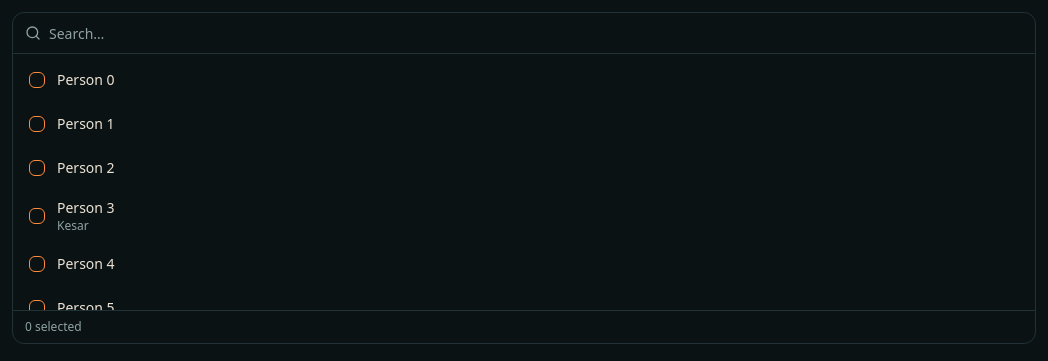
it: CheckList › toggles items, keeps option order and announces the count
Click the checkbox named "Person 5" next to "Person 5".
click(37, 308)  # box [29,300,45,316]
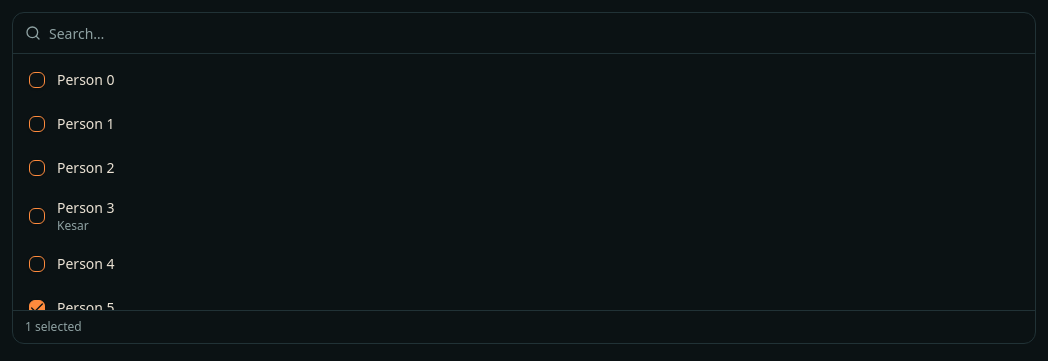
Click the checkbox named "Person 1" next to "Person 1".
click(37, 124)  # box [29,116,45,132]
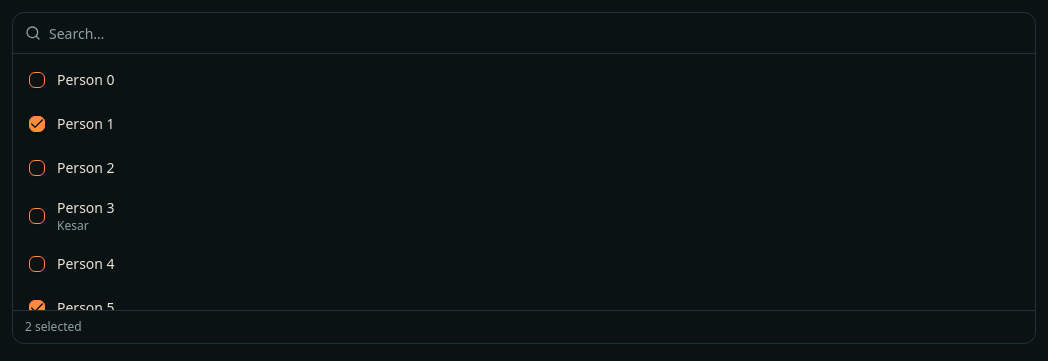
Now the text "2 selected" is shown, box [13,310,1035,343]
Click the checkbox named "Person 5" next to "Person 5".
click(37, 308)  # box [29,300,45,316]
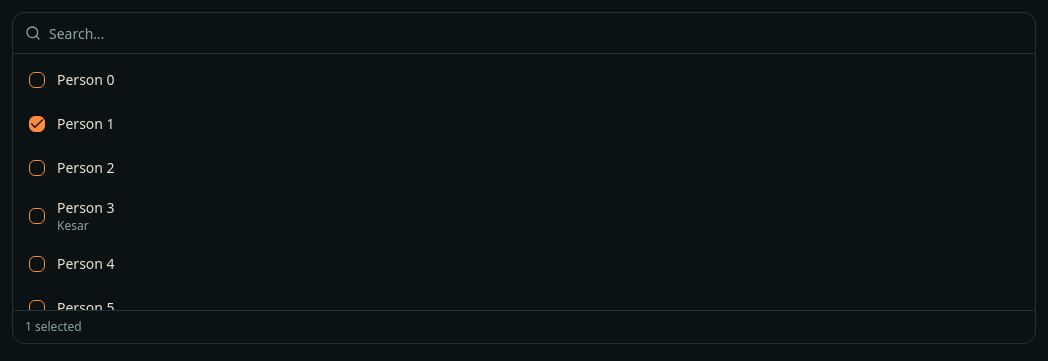
Now the text "1 selected" is shown, box [13,310,1035,343]
